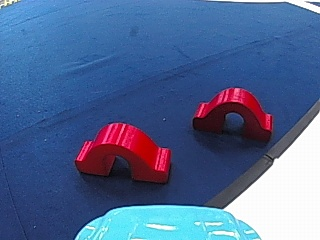bridge: (72, 117, 174, 180), (187, 83, 281, 141)
